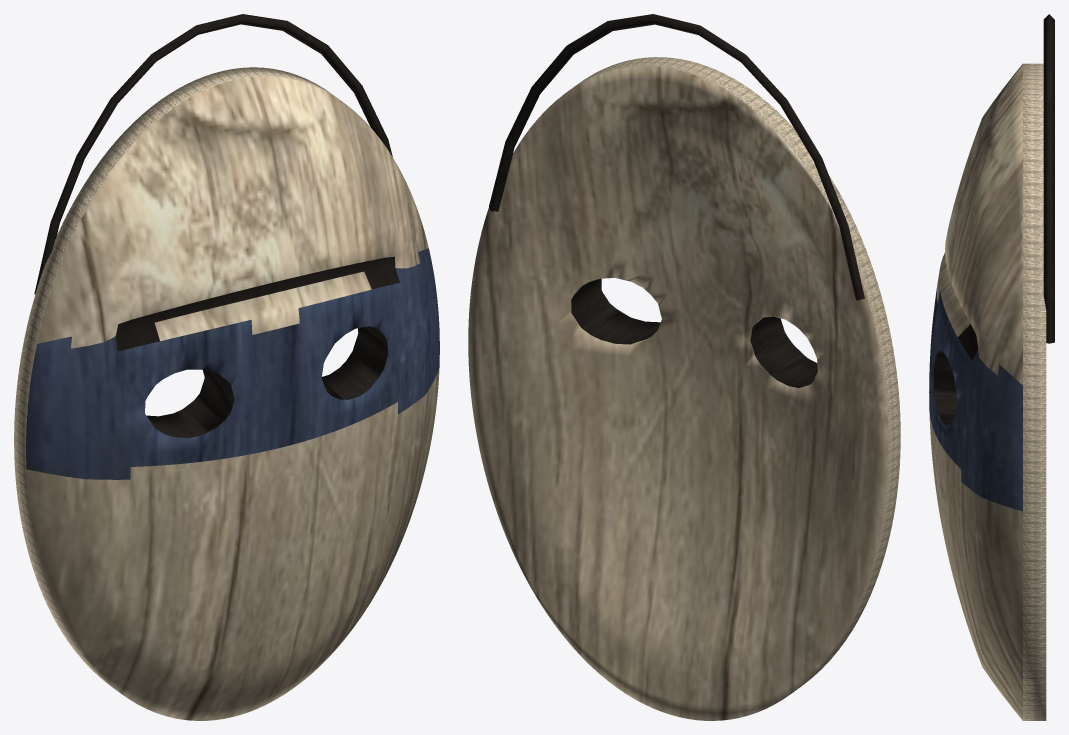
File: child_mask.glb
3 views of the same model, side by side, from view 1: azimuth 30°, elevation 25°; view 2: azimuth 150°, elevation 25°; view 3: azimuth 270°, elevation 25° (orthographic). The views are drawn at different scales.
Visible parts, largest first — view 1: child_mask; view 2: child_mask; view 3: child_mask.
Boxes of the visible parts, x1=… form: child_mask: x1=14, y1=14, x2=439, y2=720; child_mask: x1=468, y1=14, x2=900, y2=720; child_mask: x1=929, y1=14, x2=1054, y2=720.
Size of the model in its own units: 0.1156 by 0.1835 by 0.0309.
1 material, 1 textured.
